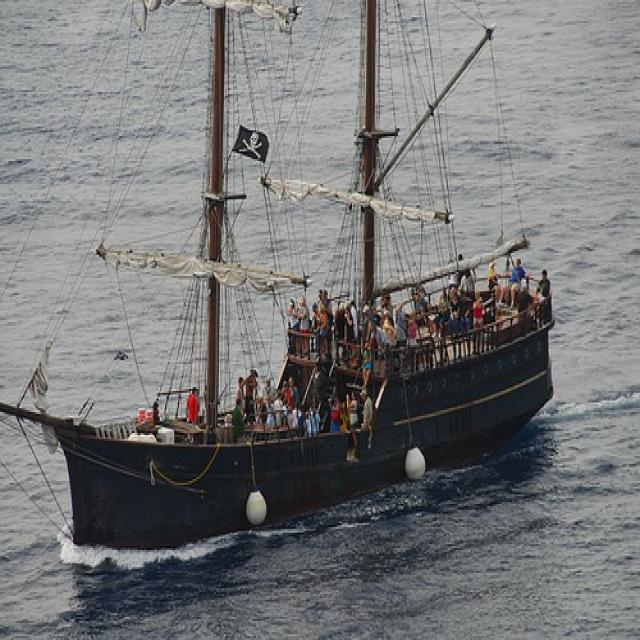Ship: (11, 3, 564, 556)
